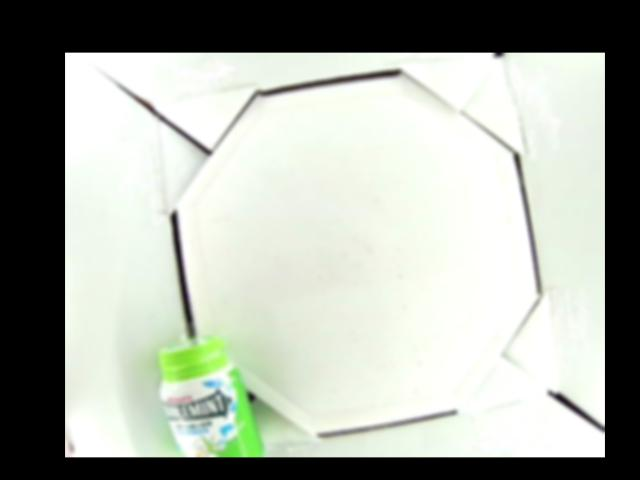Bottle: (156, 332, 270, 457)
